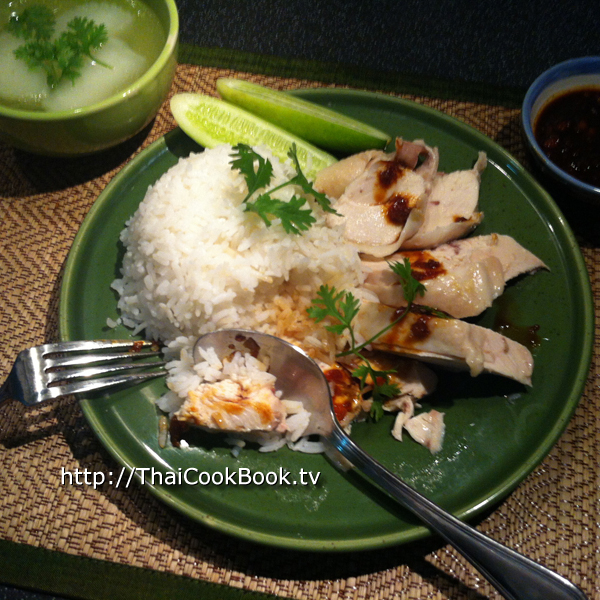Steamed Chicken Rice: (130, 132, 541, 415)
